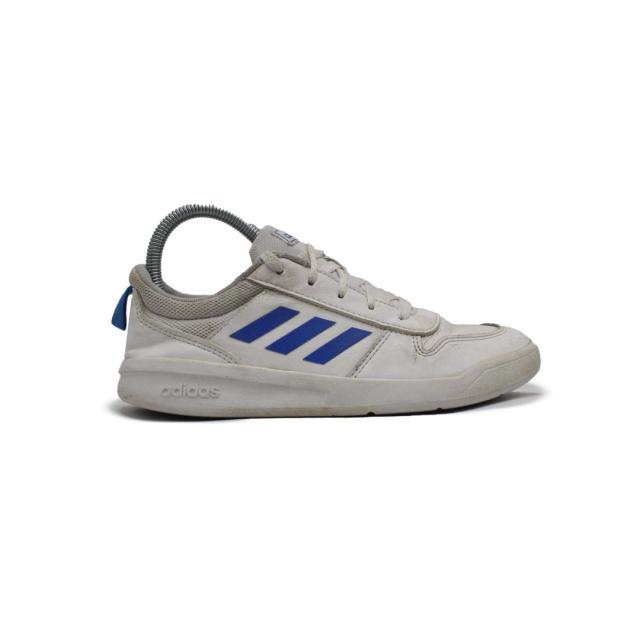heel: (111, 242, 158, 368)
midsole: (114, 350, 545, 418)
uppersole: (158, 208, 546, 373)
